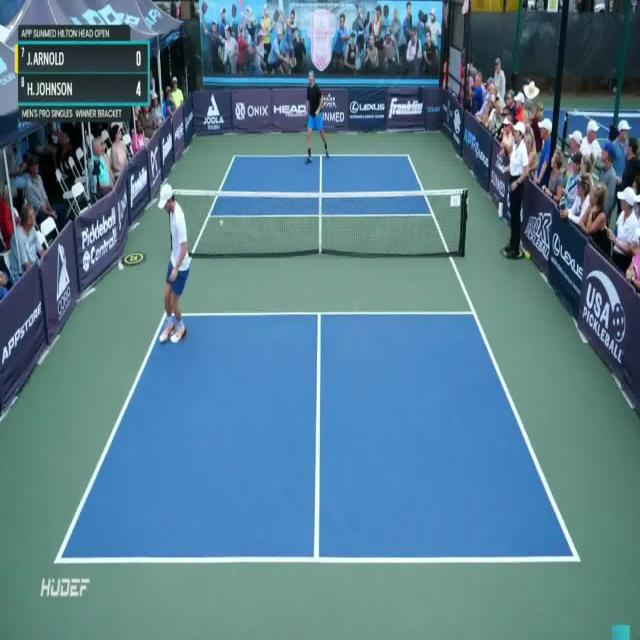Court: (55, 154, 581, 560)
ball: (218, 216, 224, 229)
